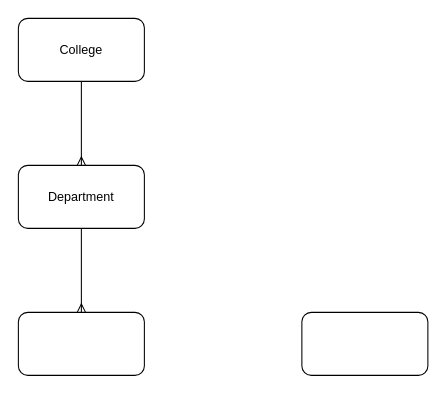
Some shapes in this 446 by 394 pixel diagram are drawn without their labels. Each missing label, with the box of its shape:
Faculty: (17, 311, 144, 375)
Student: (301, 311, 428, 375)
